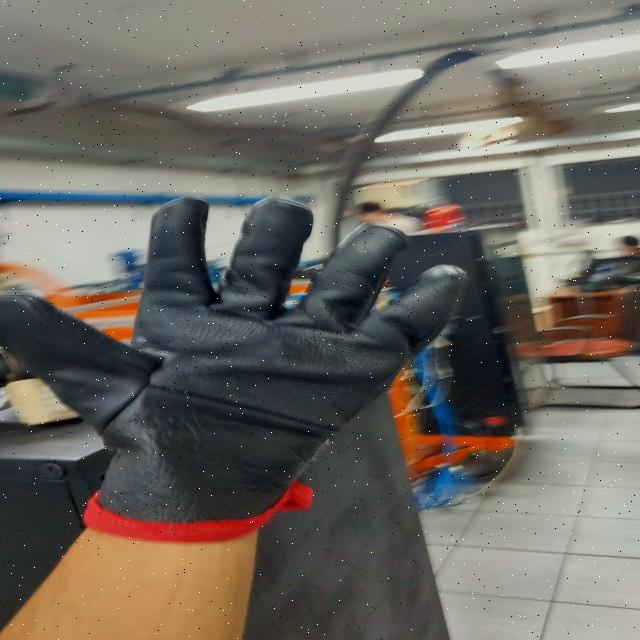Gloves: (0, 193, 470, 535)
